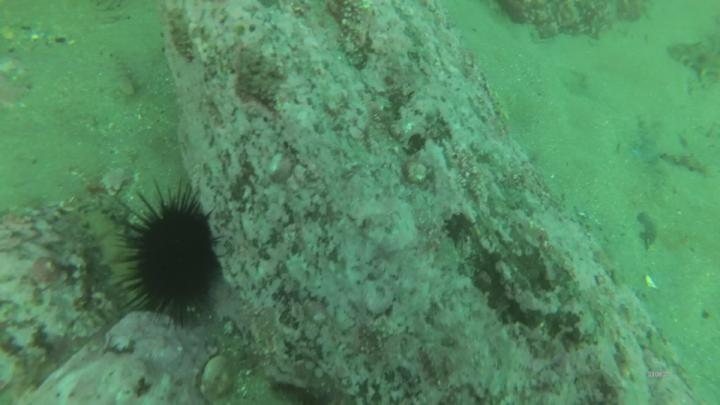echinus: (109, 180, 227, 334)
holothurian: (81, 198, 144, 307)
